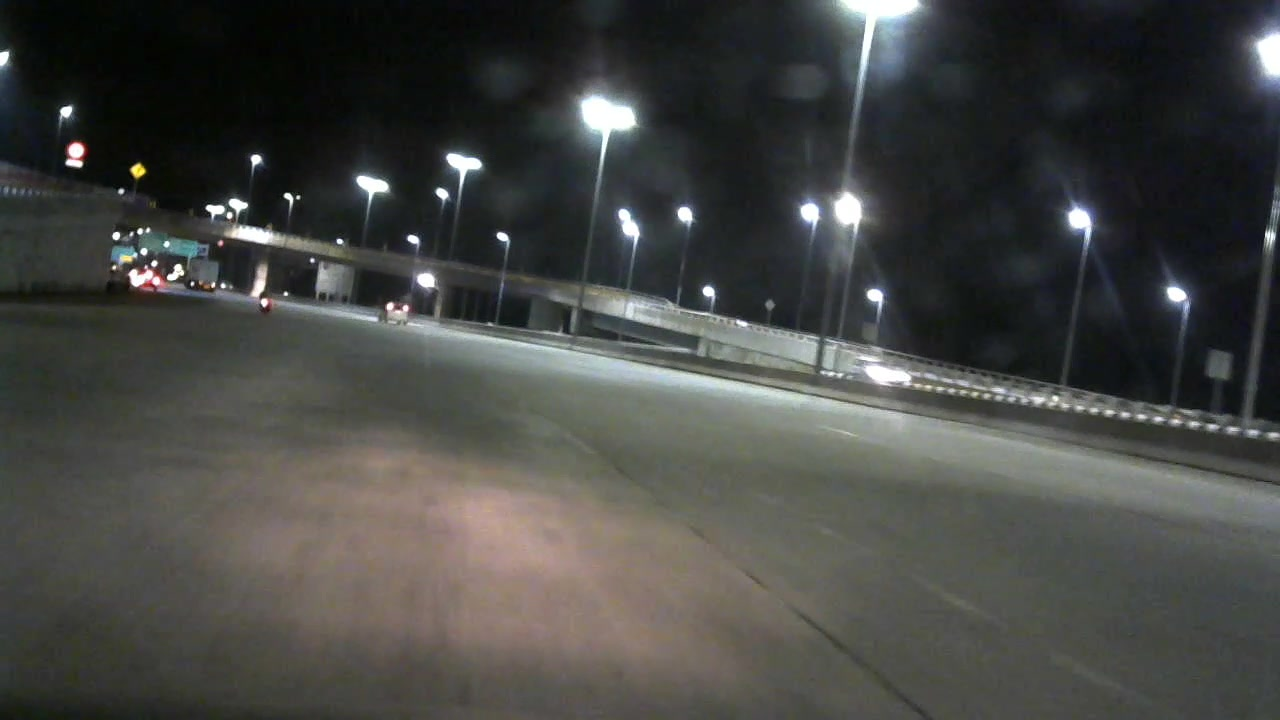Car: (367, 292, 418, 333), (124, 262, 162, 299)
